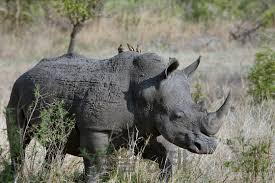Rhinoceros: (3, 37, 241, 183)
